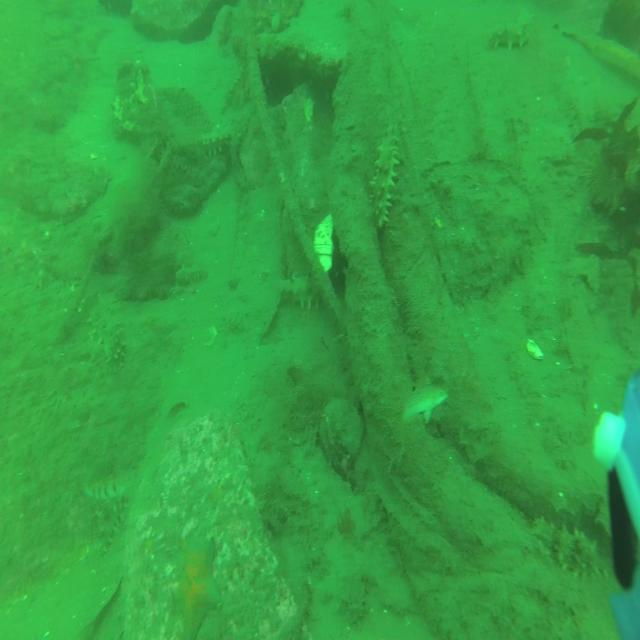echinus: (584, 149, 626, 217)
holothurian: (368, 121, 402, 230), (550, 522, 609, 582), (91, 311, 129, 379), (274, 270, 325, 313), (94, 491, 128, 553), (185, 124, 235, 159), (488, 22, 531, 52), (173, 263, 211, 286)
starfish: (167, 532, 226, 640)
